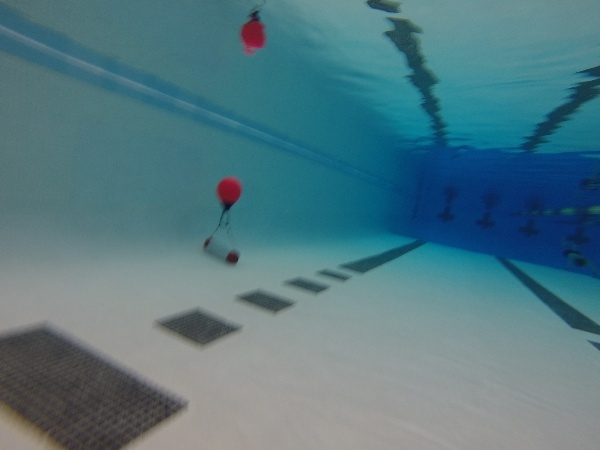buoy_red: (215, 175, 241, 212)
